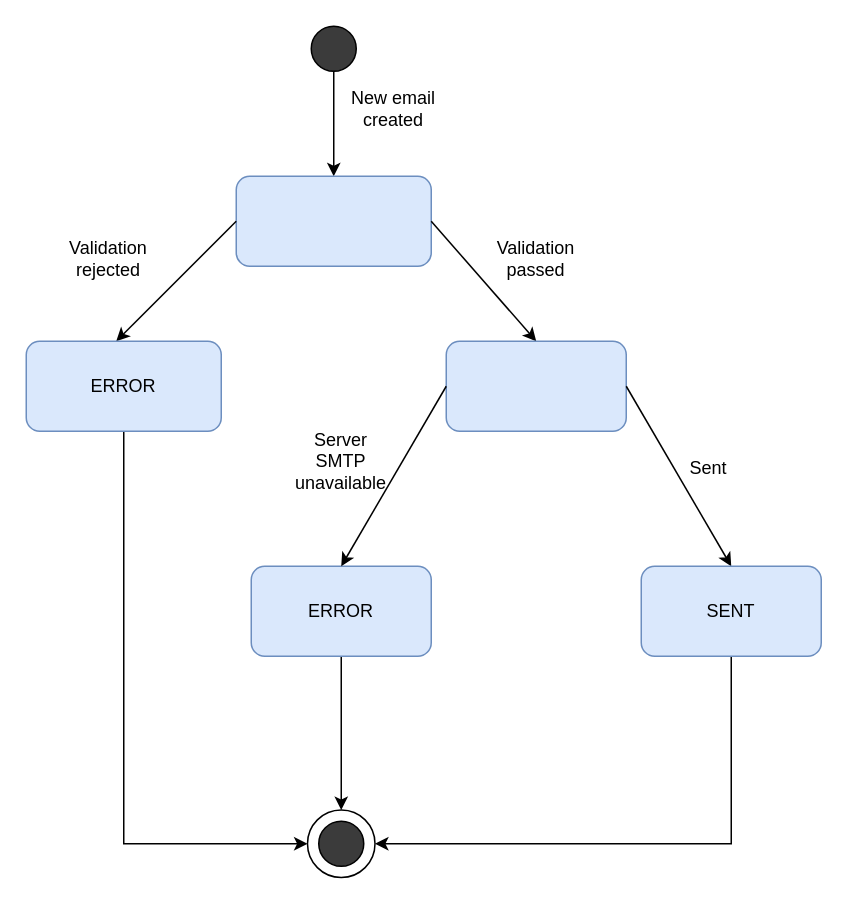
Some shapes in this 848 by 905 pixel diagram are drawn without their labels. The shapes that lost their labels are listed below. From the top down, each one's centre as x and y in pixels, then its label:
(333,220): PENDING
(535,385): PROCESSING
